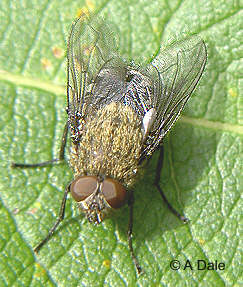green bottles flies: (7, 8, 219, 258)
